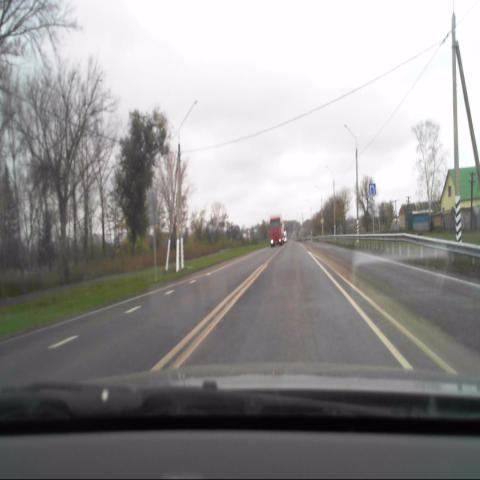5_15_5: (369, 182, 375, 196)
